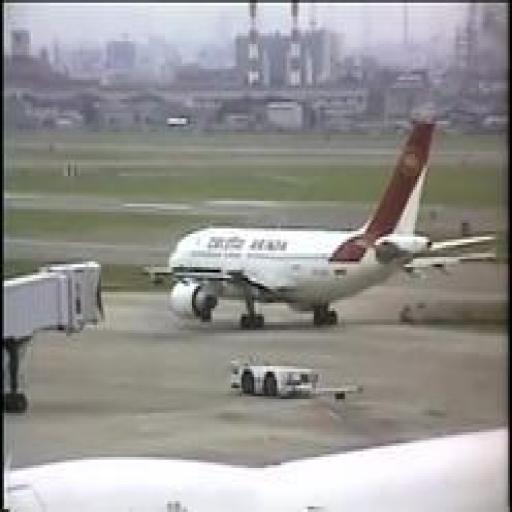aircraft: (140, 118, 500, 333)
